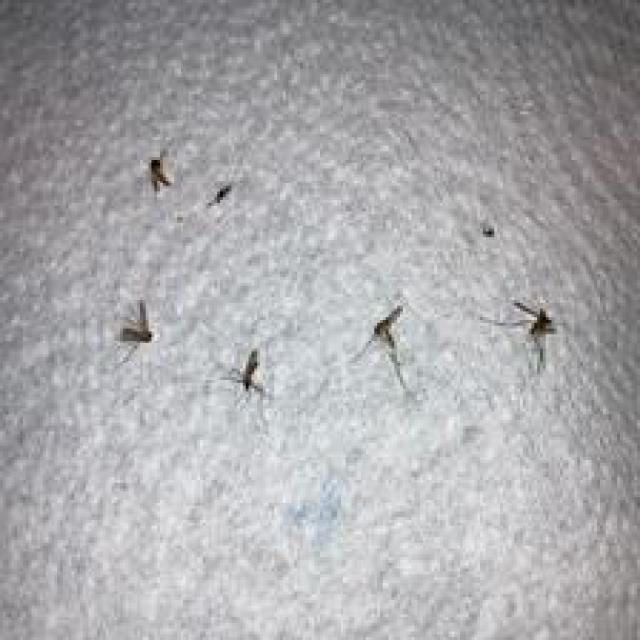Culex: (114, 299, 154, 364)
